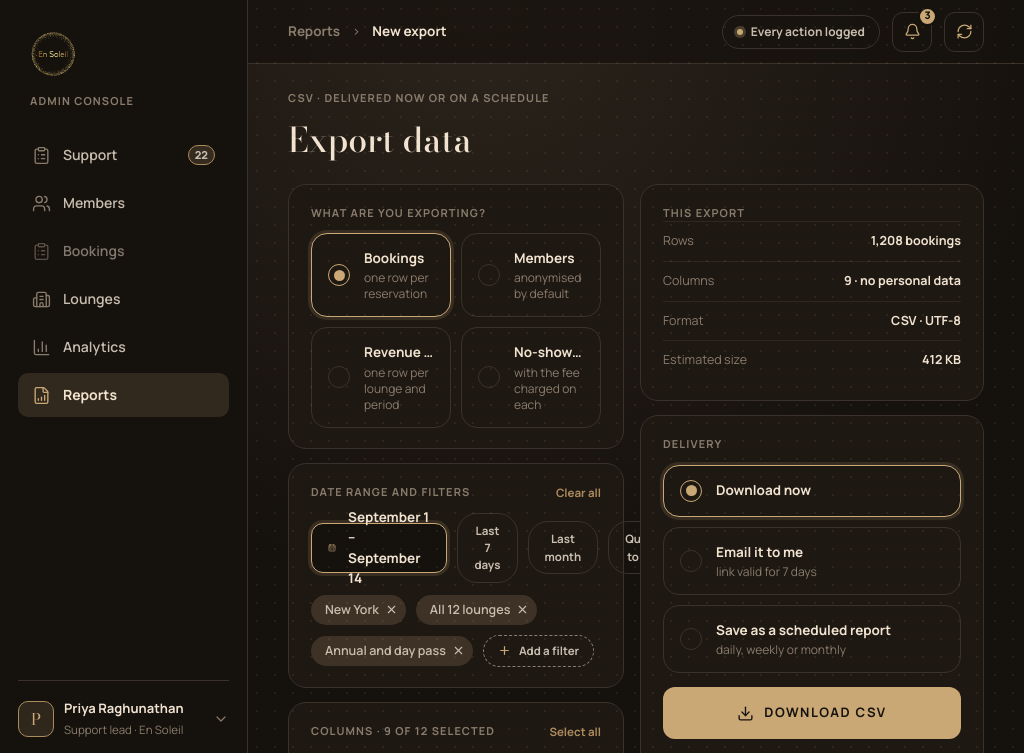
Test: Export data (/admin/reports) › changes the primary action label with the delivery method
Click the radio button labelled "Email it to me link valid for 7 days" at (812, 561), box x1=663 y1=526 x2=961 y2=595
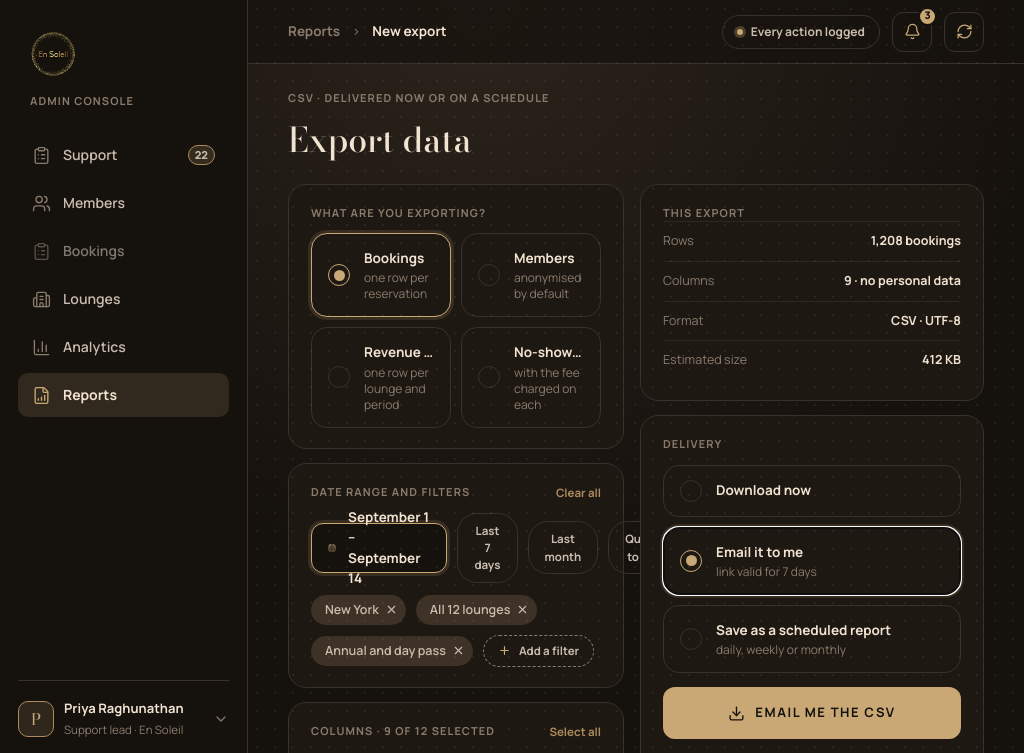
Now the button "Email me the CSV" is shown, box x1=663 y1=687 x2=961 y2=739
Click the radio button labelled "Save as a scheduled report daily, weekly or monthly" at (812, 639), box x1=663 y1=605 x2=961 y2=673
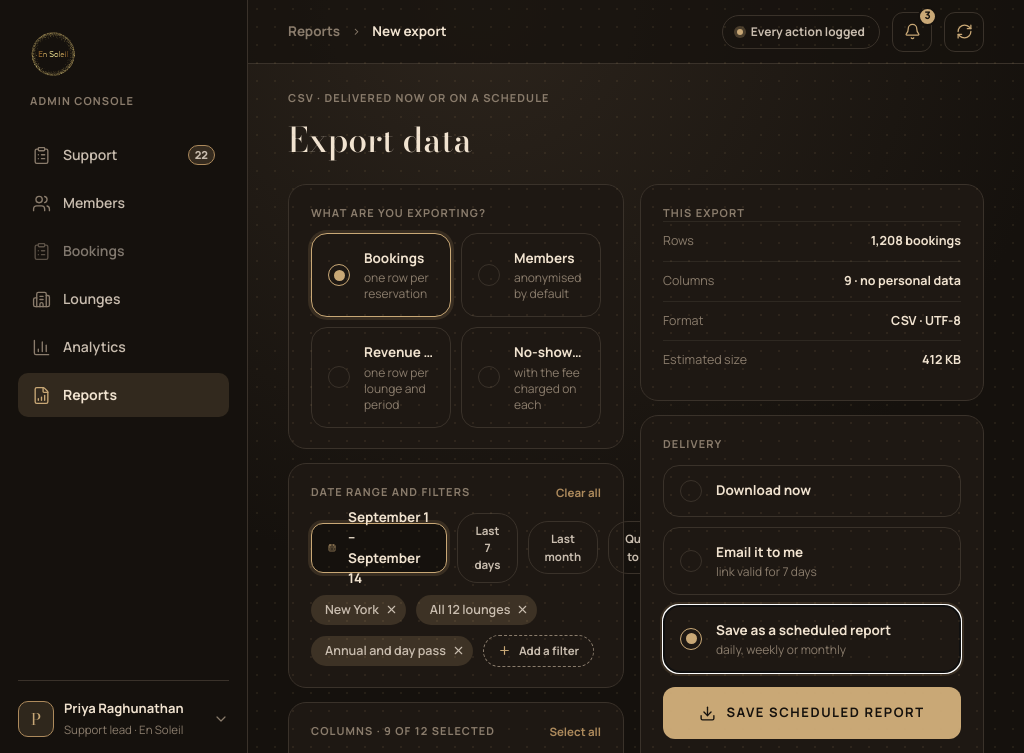
Now the button "Save scheduled report" is shown, box x1=663 y1=687 x2=961 y2=739
